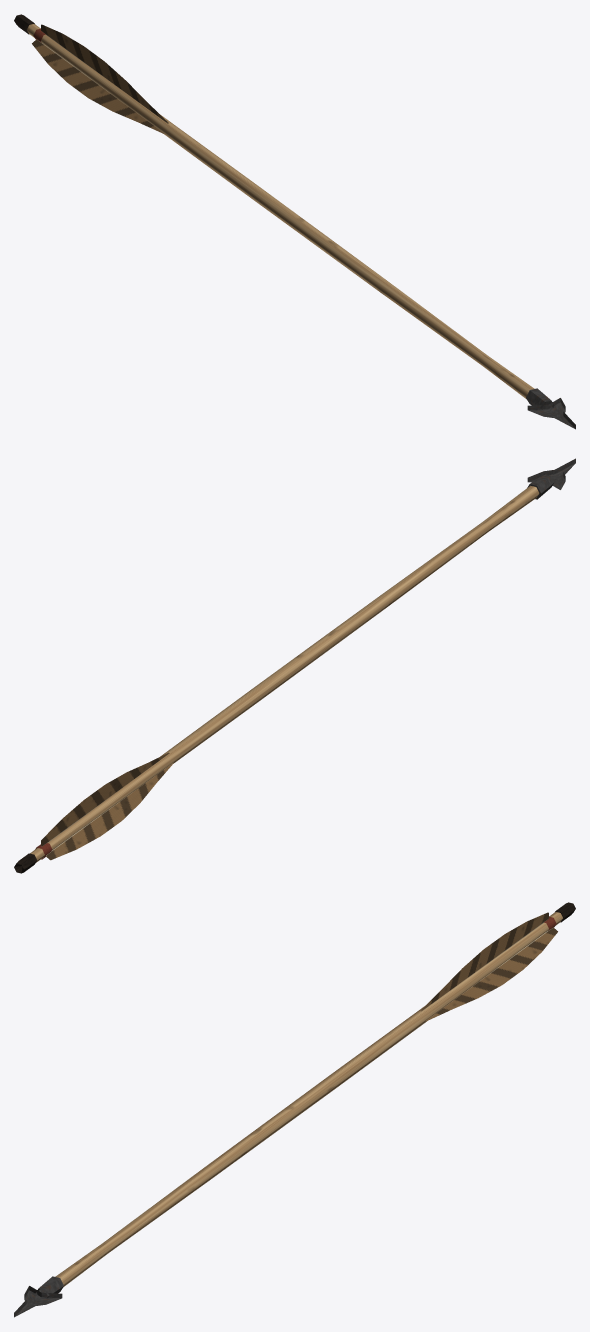
File: Arrow_Type16_Battlefield.fbx
3 renders of one model, top to bottom at view 1: azimuth 30°, elevation 25°; view 2: azimuth 150°, elevation 25°; view 3: azimuth 330°, elevation 25°, orthographic.
Parts seen in each view (by area): view 1: Arrow_Type16_Battlefield; view 2: Arrow_Type16_Battlefield; view 3: Arrow_Type16_Battlefield.
Boxes of the visible parts, x1=… form: Arrow_Type16_Battlefield: x1=14, y1=14, x2=575, y2=429; Arrow_Type16_Battlefield: x1=14, y1=458, x2=575, y2=873; Arrow_Type16_Battlefield: x1=14, y1=902, x2=575, y2=1317.
Bounding box in the file's own units: 0.0958 × 0.0845 × 2.62.
Materials: 1 (1 with a texture image).
